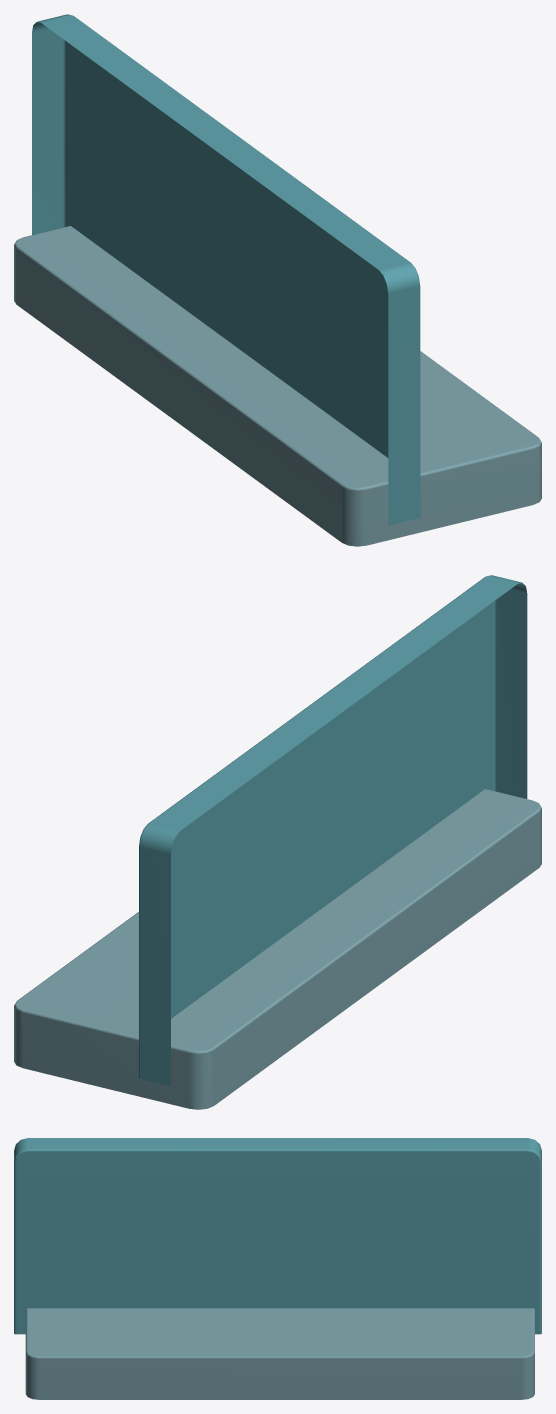
Rendered from mdl_ground.fbx.
The picture shows the model from 3 angles, top to bottom: view 1: azimuth 30°, elevation 25°; view 2: azimuth 150°, elevation 25°; view 3: azimuth 270°, elevation 25°; orthographic projection. The views are drawn at different scales.
Visible parts, largest first — view 1: pPlane8, pPlane7; view 2: pPlane8, pPlane7; view 3: pPlane8, pPlane7.
Boxes of the visible parts, x1,y1,x2,y2 form: pPlane8: (32, 14, 420, 525); pPlane7: (14, 226, 541, 546); pPlane8: (139, 575, 527, 1086); pPlane7: (14, 789, 541, 1109); pPlane8: (14, 1138, 541, 1334); pPlane7: (25, 1308, 534, 1399).
Bounding box in the file's own units: 477 × 625 × 1489.
